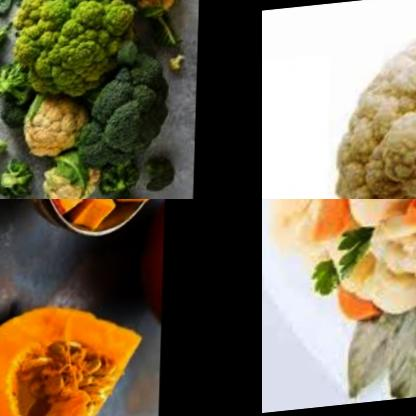broccoli: (85, 64, 180, 192), (0, 28, 30, 140), (93, 163, 183, 199), (0, 127, 38, 199)
cayliflower: (330, 4, 416, 199), (0, 0, 136, 103), (341, 209, 416, 328), (20, 87, 90, 158), (319, 199, 415, 247), (262, 199, 340, 250), (37, 155, 107, 199)
pumpkin: (0, 297, 148, 416)
